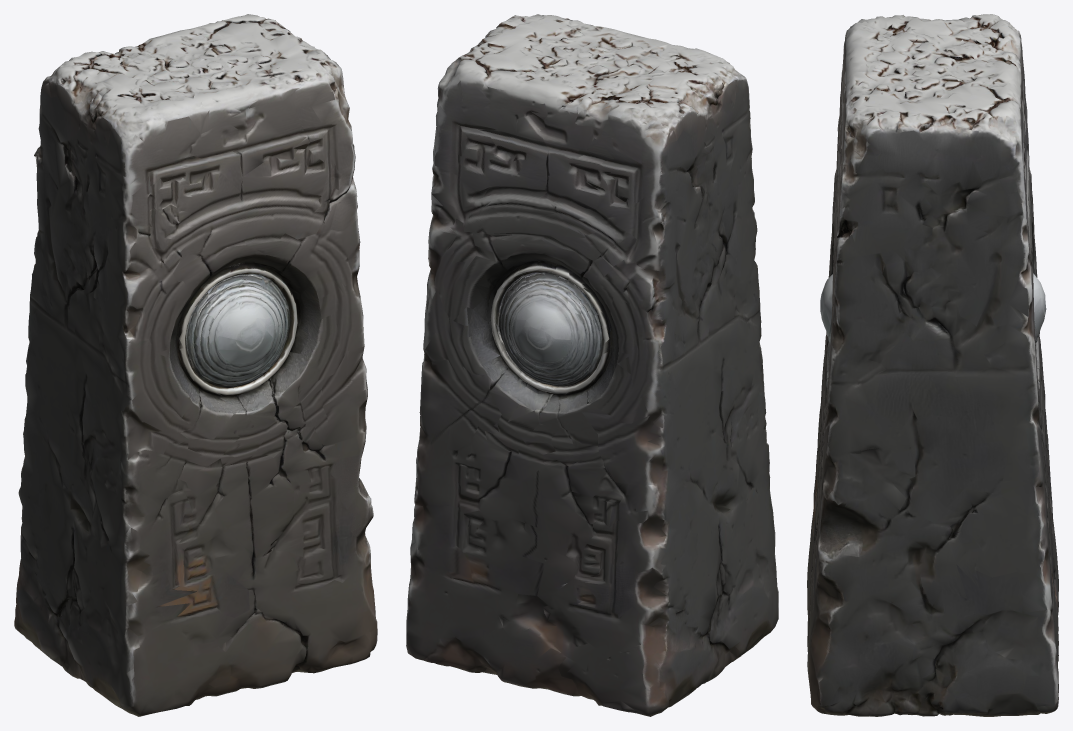
File: Ancient_Stone_Relic.glb
The picture shows the model from 3 angles, left to right: view 1: azimuth 30°, elevation 25°; view 2: azimuth 150°, elevation 25°; view 3: azimuth 270°, elevation 25°; orthographic projection.
Parts seen in each view (by area): view 1: Ancient_Stone_Relic; view 2: Ancient_Stone_Relic; view 3: Ancient_Stone_Relic.
Boxes of the visible parts, bbox=[...] form: Ancient_Stone_Relic: bbox=[14, 14, 377, 716]; Ancient_Stone_Relic: bbox=[406, 14, 778, 716]; Ancient_Stone_Relic: bbox=[807, 14, 1058, 716].
Size of the model in its own units: 0.8868 by 1.9 by 0.7342.
Materials: 1 (1 with a texture image).
